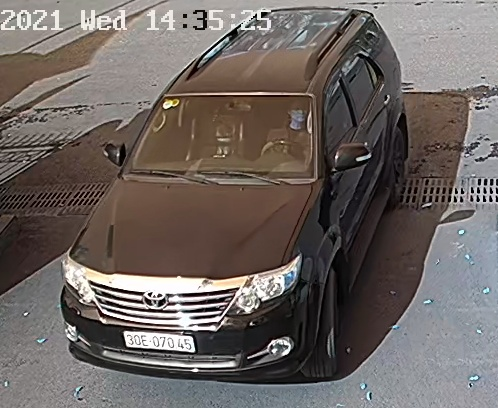vehicle plate: (119, 327, 198, 353)
